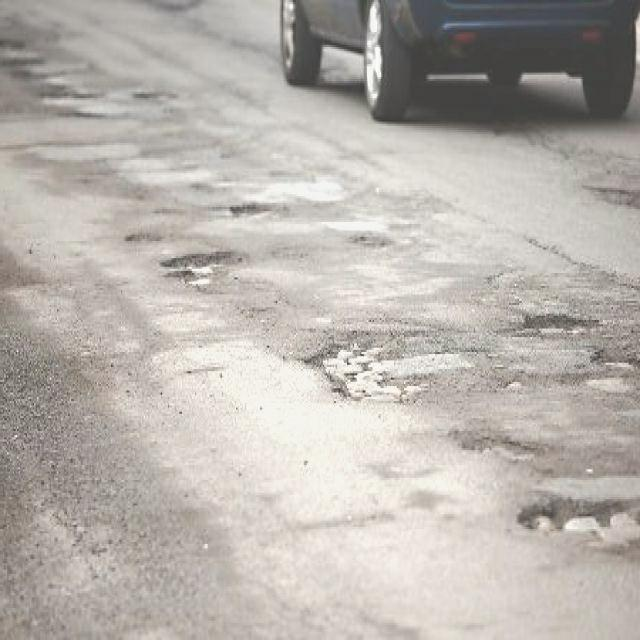Pothole: (303, 335, 428, 410), (513, 482, 640, 546), (161, 247, 249, 294), (580, 348, 640, 397), (516, 307, 594, 337), (586, 179, 640, 213), (228, 201, 276, 218)
